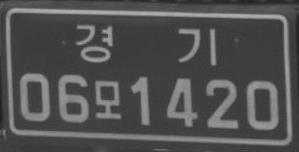0: (245, 79, 279, 131), (18, 72, 50, 122)
1: (127, 75, 156, 126)
2: (205, 77, 240, 129)
4: (166, 76, 198, 127)
6: (56, 72, 90, 123)
경기_D: (75, 23, 217, 67)
모: (93, 79, 122, 120)
